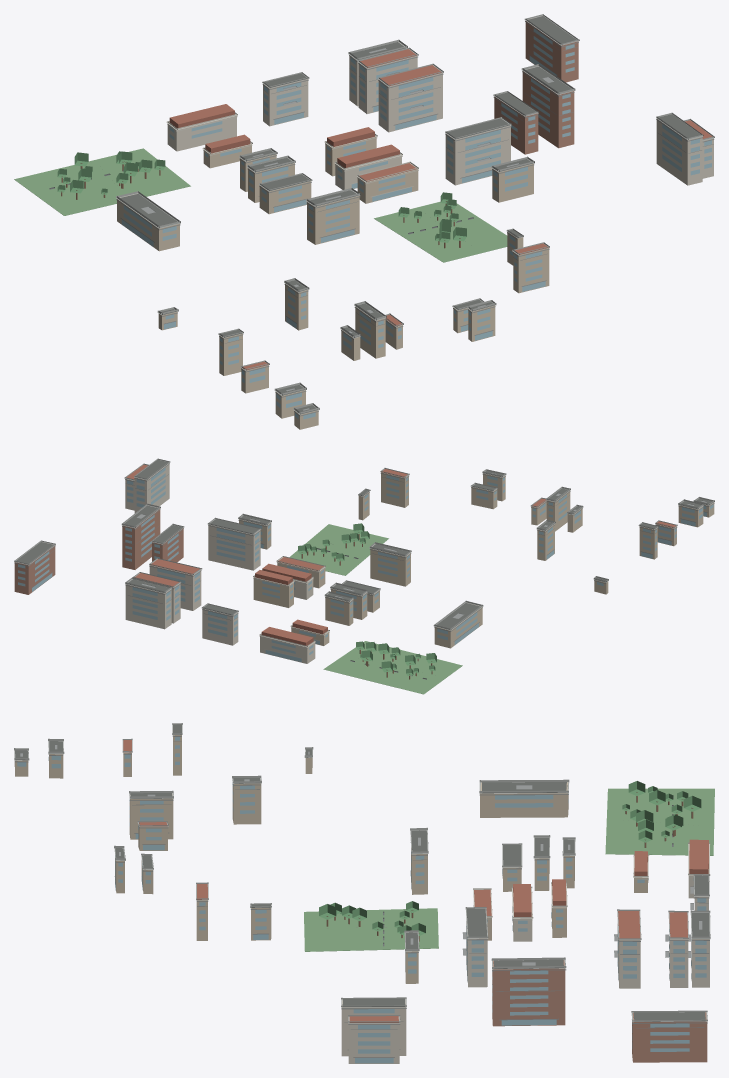
3 views of the same model, one above another, from view 1: azimuth 30°, elevation 25°; view 2: azimuth 150°, elevation 25°; view 3: azimuth 270°, elevation 25° (orthographic). The views are drawn at different scales.
Parts seen in each view (by area): view 1: neighborhood-park-block-617-mesh-0, neighborhood-park-block-670-mesh-5, building-1466-mesh-154, building-1520-mesh-188, building-1465-mesh-148, building-1517-mesh-173, building-1521-mesh-194, neighborhood-park-block-617-mesh-3, building-1361-mesh-78, building-1366-mesh-106, building-1412-mesh-136, building-1519-mesh-183 (+21 smaller); view 2: neighborhood-park-block-617-mesh-0, neighborhood-park-block-670-mesh-5, building-1465-mesh-148, building-1468-mesh-166, building-1520-mesh-188, building-1361-mesh-78, neighborhood-park-block-617-mesh-3, building-1521-mesh-194, building-1412-mesh-136, building-1517-mesh-173, building-1466-mesh-154, building-1409-mesh-121 (+18 smaller); view 3: neighborhood-park-block-617-mesh-0, neighborhood-park-block-670-mesh-5, building-1520-mesh-188, building-1521-mesh-194, neighborhood-park-block-617-mesh-3, building-1315-mesh-61, building-1518-mesh-178, building-1520-mesh-189, neighborhood-park-block-670-mesh-8, building-1312-mesh-44, building-1314-mesh-55, building-1517-mesh-173 (+16 smaller).
Boxes of the visible parts, left/top/right/bottom form: neighborhood-park-block-617-mesh-0: left=14, top=148, right=190, bottom=215; neighborhood-park-block-670-mesh-5: left=374, top=201, right=507, bottom=262; building-1466-mesh-154: left=378, top=73, right=442, bottom=132; building-1520-mesh-188: left=522, top=71, right=574, bottom=148; building-1465-mesh-148: left=445, top=125, right=510, bottom=185; building-1517-mesh-173: left=656, top=119, right=702, bottom=185; building-1521-mesh-194: left=525, top=21, right=578, bottom=82; neighborhood-park-block-617-mesh-3: left=57, top=151, right=165, bottom=194; building-1361-mesh-78: left=307, top=195, right=359, bottom=244; building-1366-mesh-106: left=167, top=116, right=236, bottom=151; building-1412-mesh-136: left=263, top=79, right=308, bottom=126; building-1519-mesh-183: left=494, top=96, right=538, bottom=154; neighborhood-park-block-617-mesh-0: left=323, top=641, right=462, bottom=694; neighborhood-park-block-670-mesh-5: left=289, top=524, right=388, bottom=575; building-1465-mesh-148: left=208, top=524, right=260, bottom=570; building-1468-mesh-166: left=125, top=584, right=171, bottom=629; building-1520-mesh-188: left=122, top=509, right=160, bottom=569; building-1361-mesh-78: left=370, top=548, right=410, bottom=586; neighborhood-park-block-617-mesh-3: left=356, top=641, right=436, bottom=675; building-1521-mesh-194: left=14, top=545, right=55, bottom=594; building-1412-mesh-136: left=202, top=608, right=238, bottom=645; building-1517-mesh-173: left=134, top=463, right=169, bottom=512; building-1466-mesh-154: left=149, top=565, right=201, bottom=610; building-1409-mesh-121: left=253, top=577, right=293, bottom=607; neighborhood-park-block-617-mesh-0: left=605, top=788, right=714, bottom=855; neighborhood-park-block-670-mesh-5: left=304, top=908, right=438, bottom=951; building-1520-mesh-188: left=492, top=960, right=565, bottom=1026; building-1521-mesh-194: left=632, top=1012, right=707, bottom=1062; neighborhood-park-block-617-mesh-3: left=622, top=781, right=701, bottom=842; building-1315-mesh-61: left=480, top=782, right=568, bottom=817; building-1518-mesh-178: left=348, top=1017, right=399, bottom=1063; building-1520-mesh-189: left=492, top=970, right=556, bottom=1025; neighborhood-park-block-670-mesh-8: left=319, top=901, right=425, bottom=935; building-1312-mesh-44: left=129, top=794, right=173, bottom=839; building-1314-mesh-55: left=232, top=783, right=261, bottom=824; building-1517-mesh-173: left=341, top=999, right=406, bottom=1056.
Bounding box in the file's own units: 264 × 24.33 × 261.
